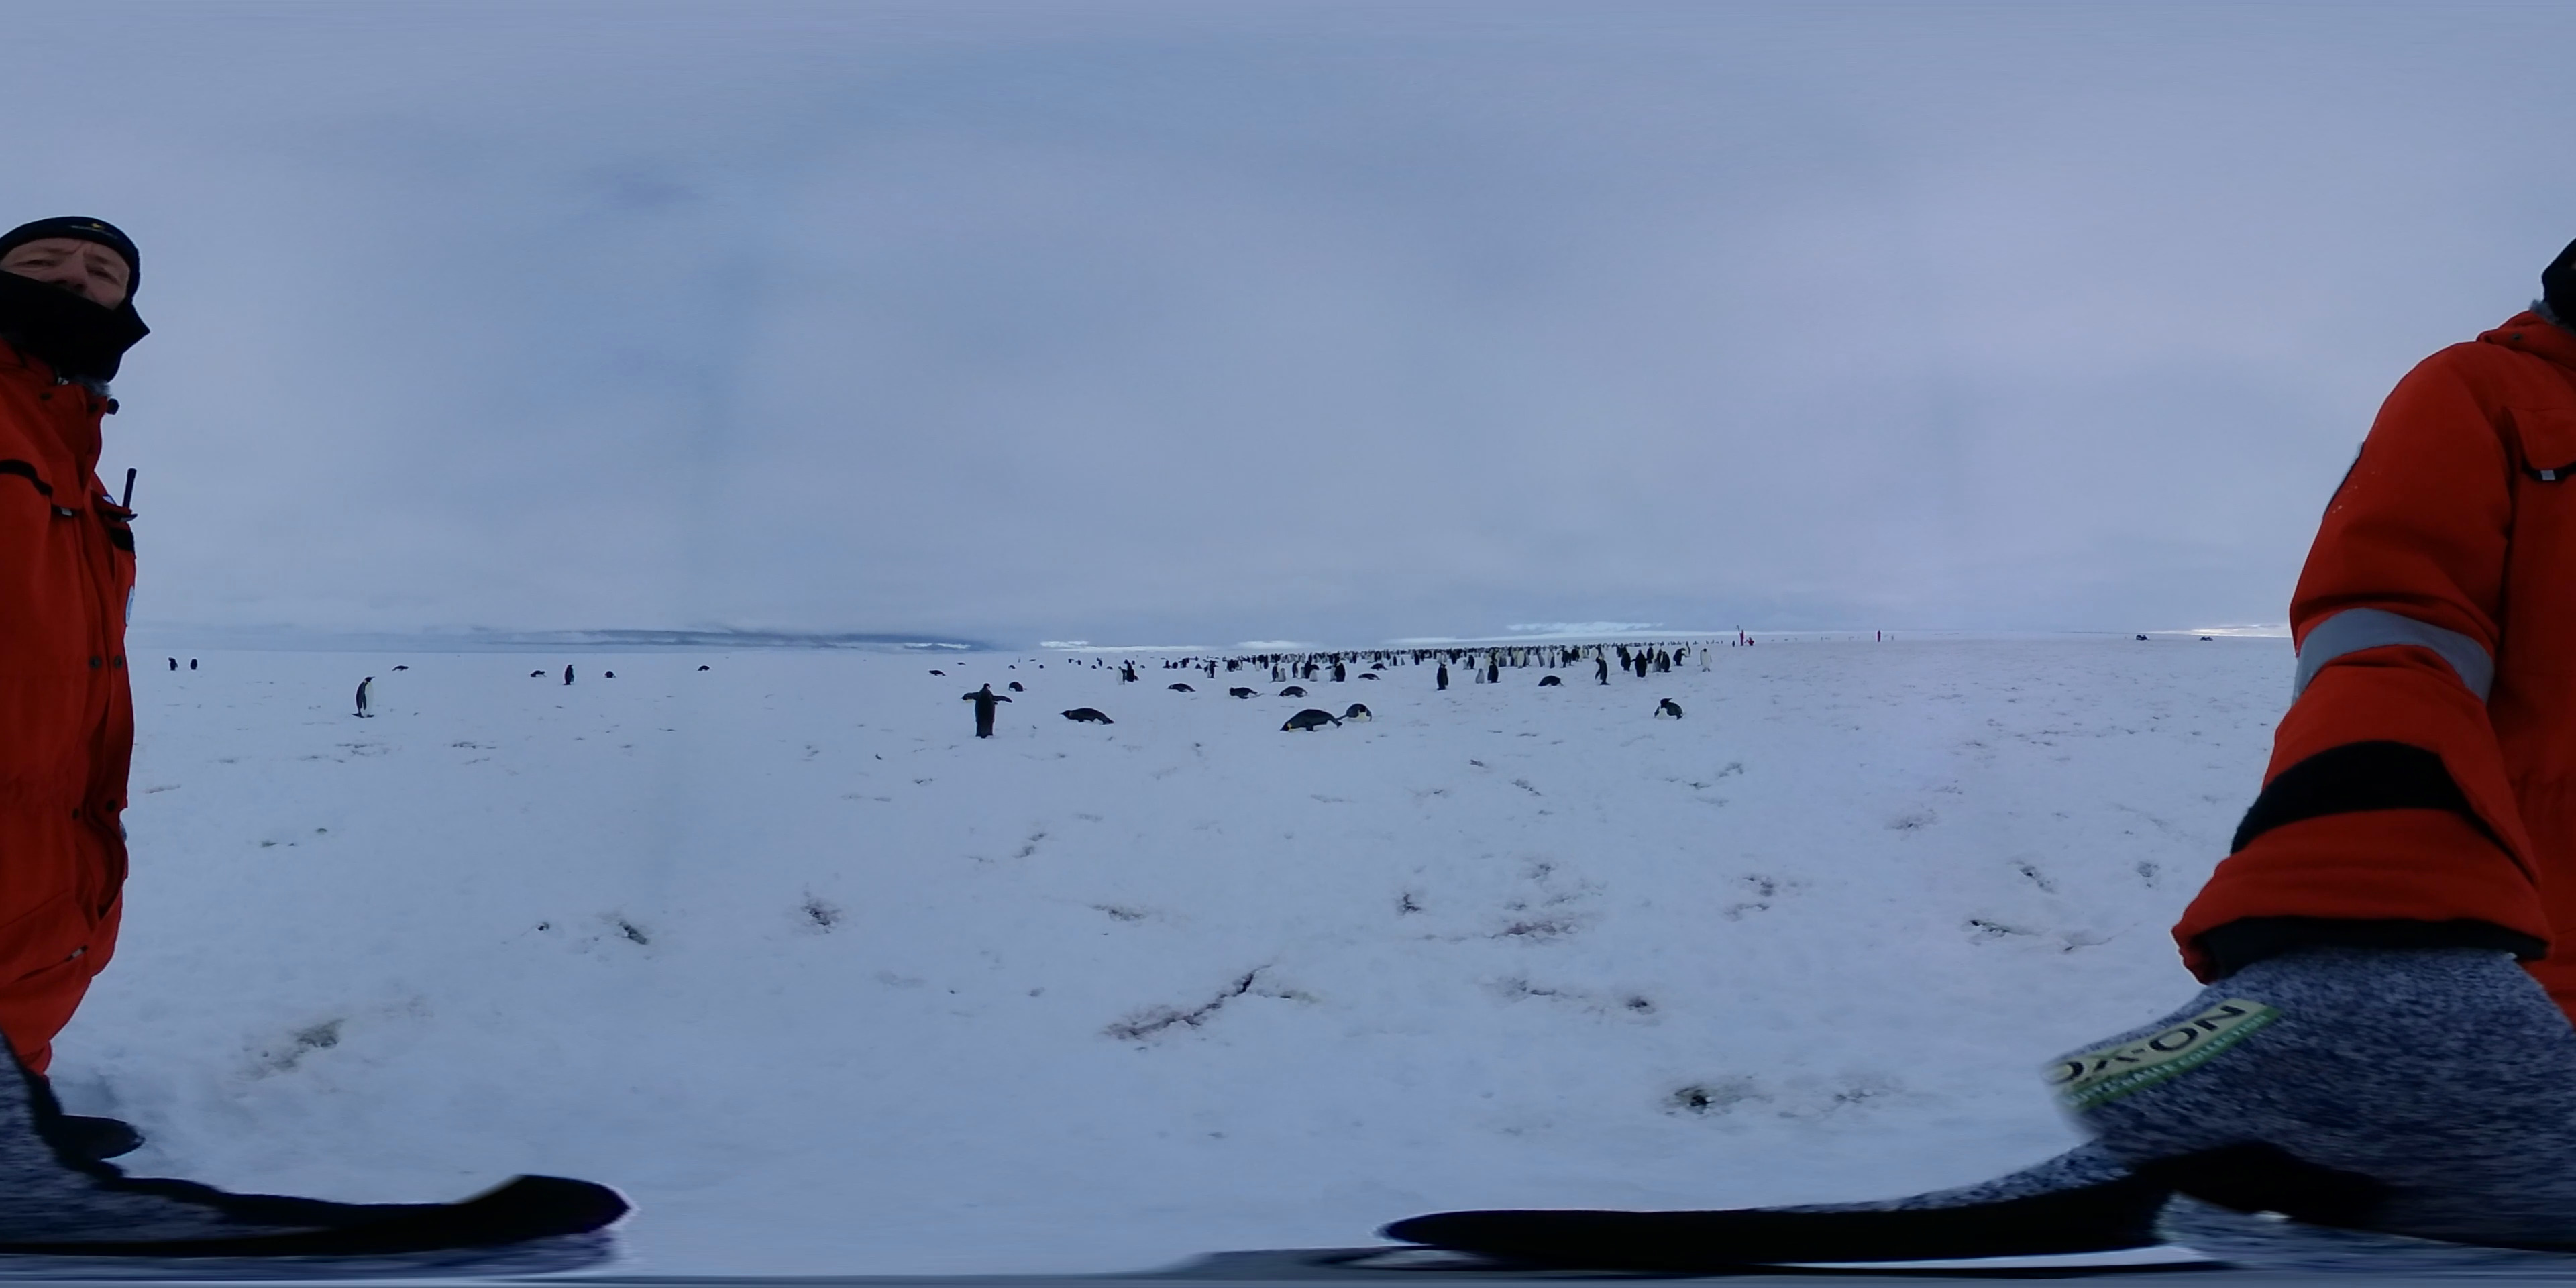adult_standing_penguin: (969, 682, 994, 738), (352, 674, 376, 721), (1431, 662, 1451, 692), (1594, 655, 1610, 688), (1631, 649, 1649, 678), (1482, 659, 1502, 685), (1658, 651, 1674, 674), (562, 662, 575, 688), (1674, 647, 1687, 670), (1699, 647, 1712, 670)
adult_toboggan_penguin: (1280, 710, 1345, 734), (1058, 706, 1112, 726), (1341, 700, 1377, 728), (1651, 697, 1687, 723), (1227, 683, 1262, 703), (1166, 680, 1198, 697), (959, 690, 992, 705), (1280, 687, 1313, 698), (1536, 674, 1561, 688), (1005, 680, 1030, 693), (927, 669, 950, 678), (529, 669, 550, 678), (389, 664, 407, 672), (605, 670, 619, 678), (697, 662, 710, 670)
juvenile_penguin: (1475, 669, 1485, 685)
researcher: (2167, 215, 2576, 1204), (0, 199, 161, 1193)
